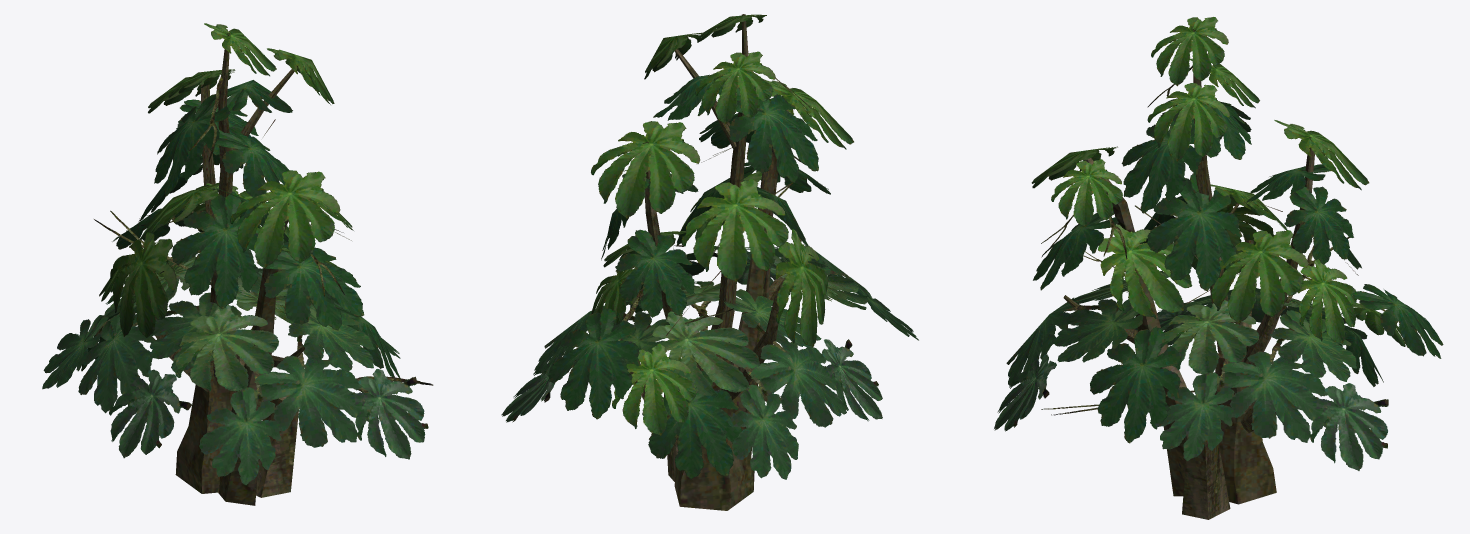
Rendered from guanmu_03.FBX.
3 renders of one model, left to right at view 1: azimuth 30°, elevation 25°; view 2: azimuth 150°, elevation 25°; view 3: azimuth 270°, elevation 25°, orthographic. The views are drawn at different scales.
Parts seen in each view (by area): view 1: guanmu_03_01, guanmu_03_03; view 2: guanmu_03_01, guanmu_03_03; view 3: guanmu_03_01, guanmu_03_03.
Boxes of the visible parts, left/top/right/bottom form: guanmu_03_01: left=81, top=23, right=433, bottom=505; guanmu_03_03: left=42, top=256, right=428, bottom=485; guanmu_03_01: left=548, top=14, right=853, bottom=510; guanmu_03_03: left=501, top=246, right=918, bottom=479; guanmu_03_01: left=1031, top=17, right=1443, bottom=519; guanmu_03_03: left=994, top=271, right=1388, bottom=470.
Size of the model in its own units: 3.47 by 4.77 by 4.47.
